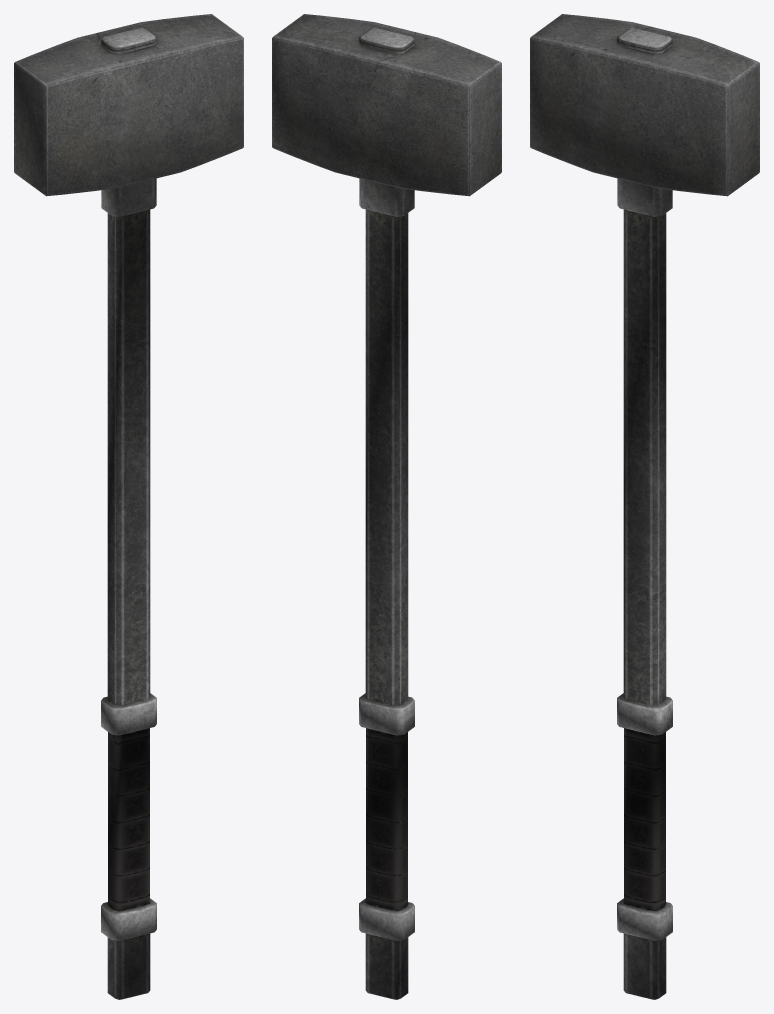
File: SM_Warhammer_04.fbx
3 views of the same model, side by side, from view 1: azimuth 30°, elevation 25°; view 2: azimuth 150°, elevation 25°; view 3: azimuth 330°, elevation 25° (orthographic).
Visible parts, largest first — view 1: SM_Warhammer_04_LOD0; view 2: SM_Warhammer_04_LOD0; view 3: SM_Warhammer_04_LOD0.
Part boxes in pixels (<box>): SM_Warhammer_04_LOD0: <box>14,14,243,999</box>; SM_Warhammer_04_LOD0: <box>272,14,501,999</box>; SM_Warhammer_04_LOD0: <box>530,14,759,999</box>.
Size of the model in its own units: 23.59 by 8.42 by 108.
Materials: 1 (1 with a texture image).
